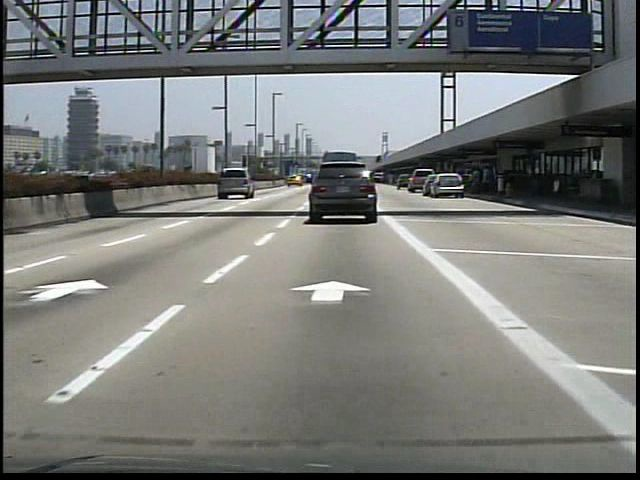person: (478, 160, 494, 197), (464, 165, 481, 198)
